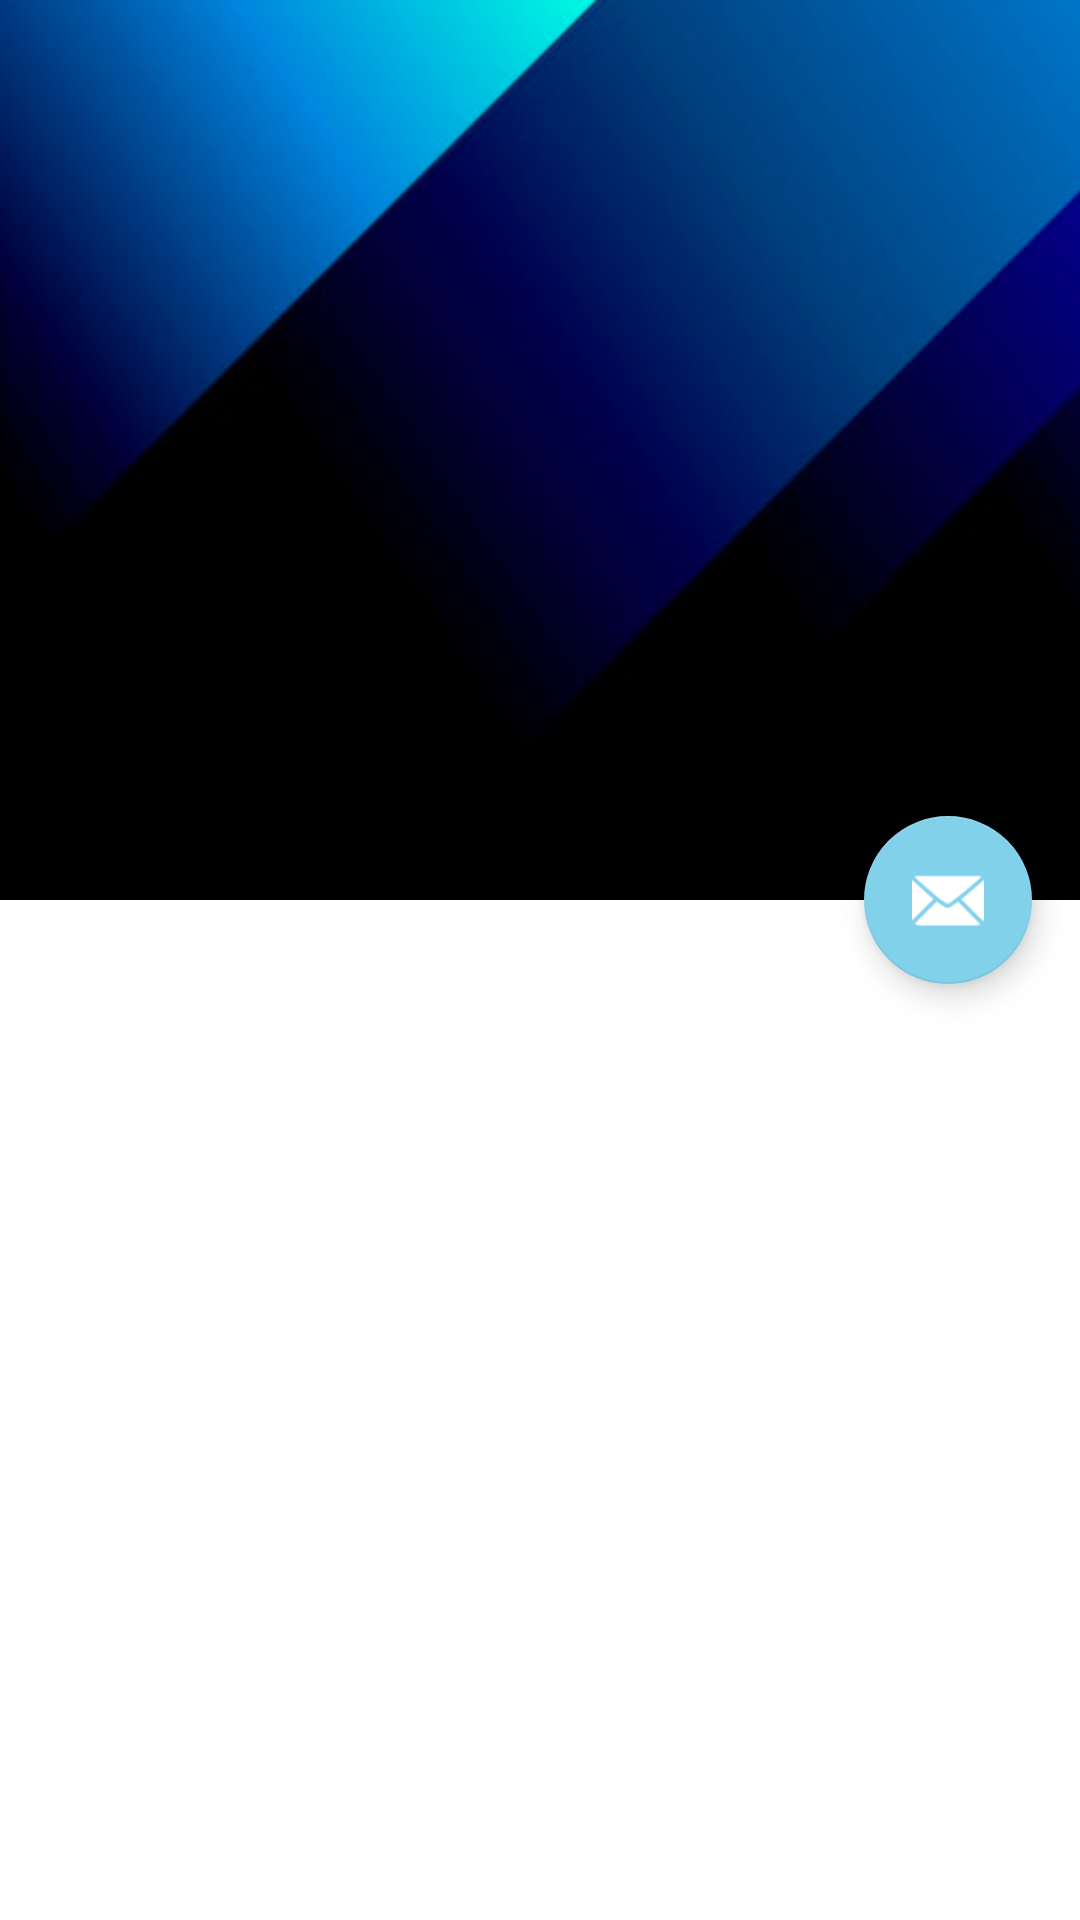

Named icons in this screenshot (1080px×1920px) and their centers, [x,y]:
email: [948,900]
